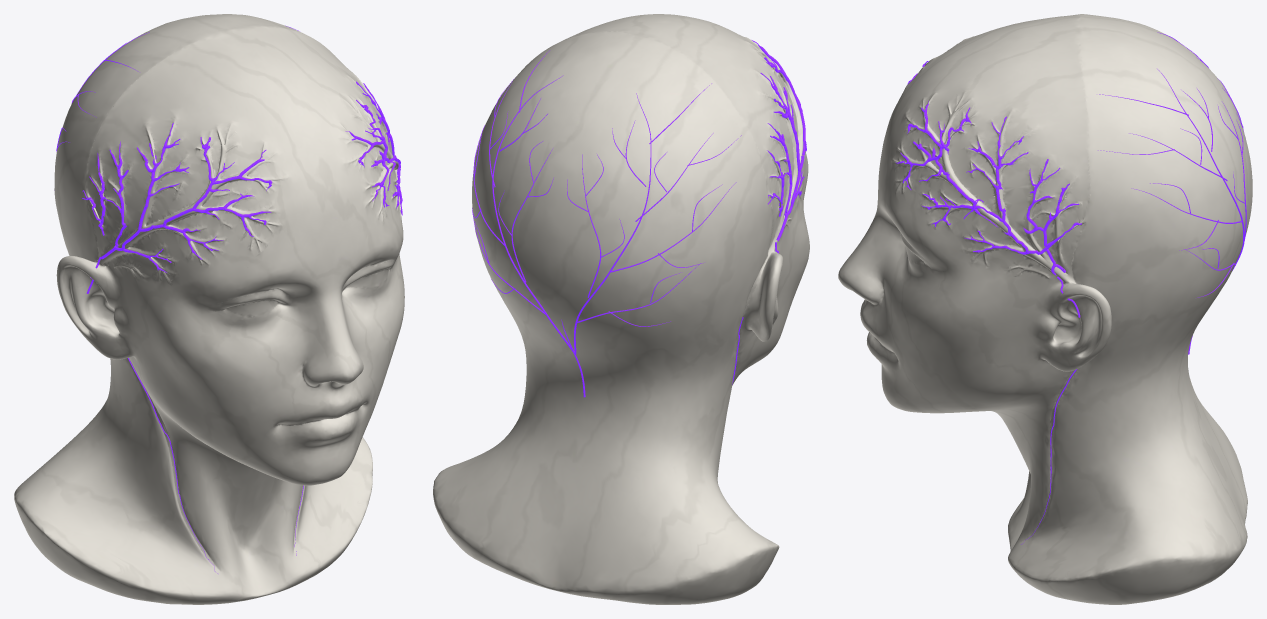
The model's file is cymba-neural-mannequin-premium.glb.
The picture shows the model from 3 angles, left to right: view 1: azimuth 30°, elevation 25°; view 2: azimuth 150°, elevation 25°; view 3: azimuth 270°, elevation 25°; orthographic projection. The views are drawn at different scales.
Parts seen in each view (by area): view 1: Cymba_Marble_Mannequin, Purple_Surface_Nerve_Fibres; view 2: Cymba_Marble_Mannequin, Purple_Surface_Nerve_Fibres; view 3: Cymba_Marble_Mannequin, Purple_Surface_Nerve_Fibres.
Boxes of the visible parts, left/top/right/bottom form: Cymba_Marble_Mannequin: left=14, top=14, right=404, bottom=604; Purple_Surface_Nerve_Fibres: left=56, top=25, right=402, bottom=573; Cymba_Marble_Mannequin: left=433, top=14, right=809, bottom=604; Purple_Surface_Nerve_Fibres: left=472, top=40, right=806, bottom=397; Cymba_Marble_Mannequin: left=838, top=14, right=1252, bottom=604; Purple_Surface_Nerve_Fibres: left=895, top=32, right=1246, bottom=544.
Size of the model in its own units: 2.74 by 4.26 by 3.04.
2 materials, 1 textured.
